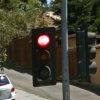Traffic light: (23, 15, 58, 94)
